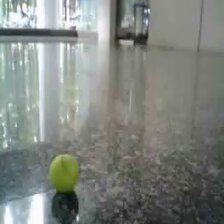tennis: (49, 154, 77, 190)
